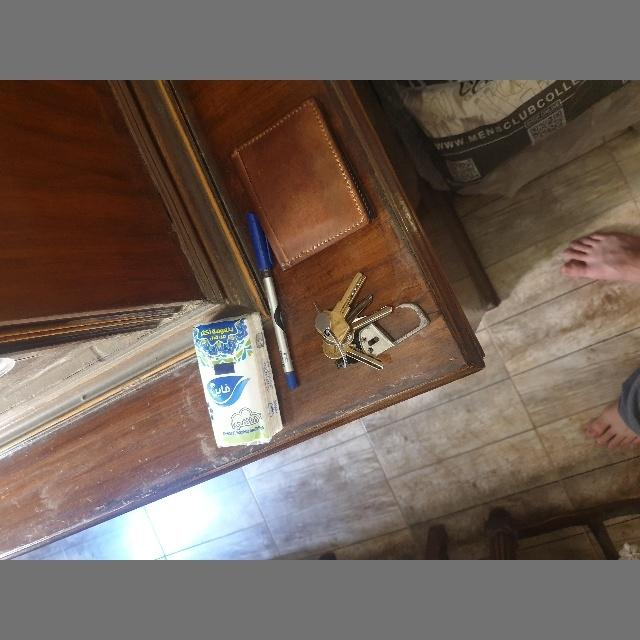Keys: (315, 272, 429, 368)
